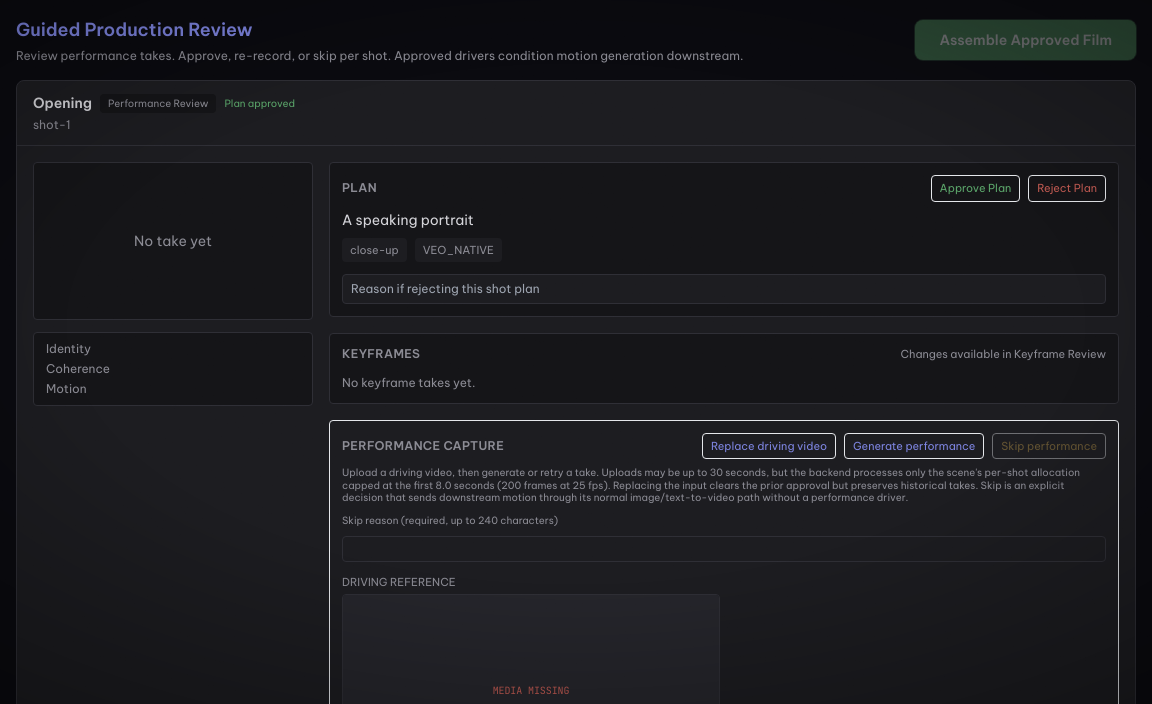
Test case: ReviewStage performance review workflow › generates a performance take, refreshes, and announces the review requirement
What coordinates should you click on to do the following:
click the button "Generate performance"
I would click on:
 (914, 446)
Its box is [844,432,984,459].
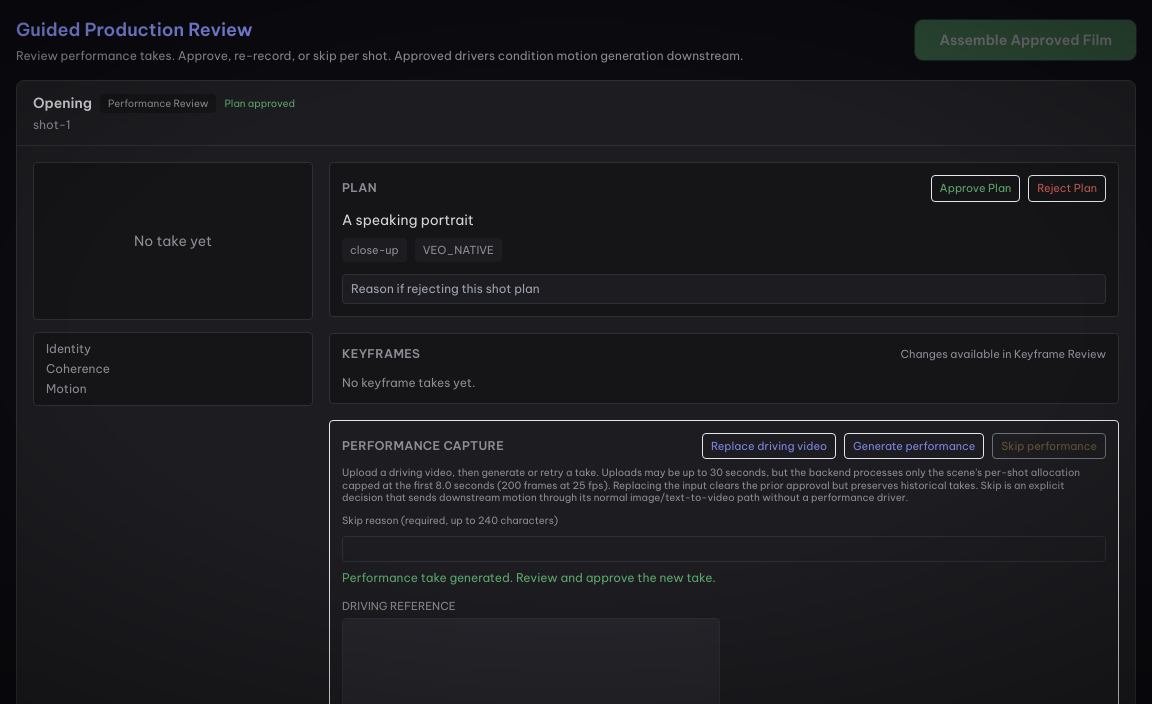
Result: the message reads "Performance take generated. Review and approve the new take." at [342,570,716,584]
